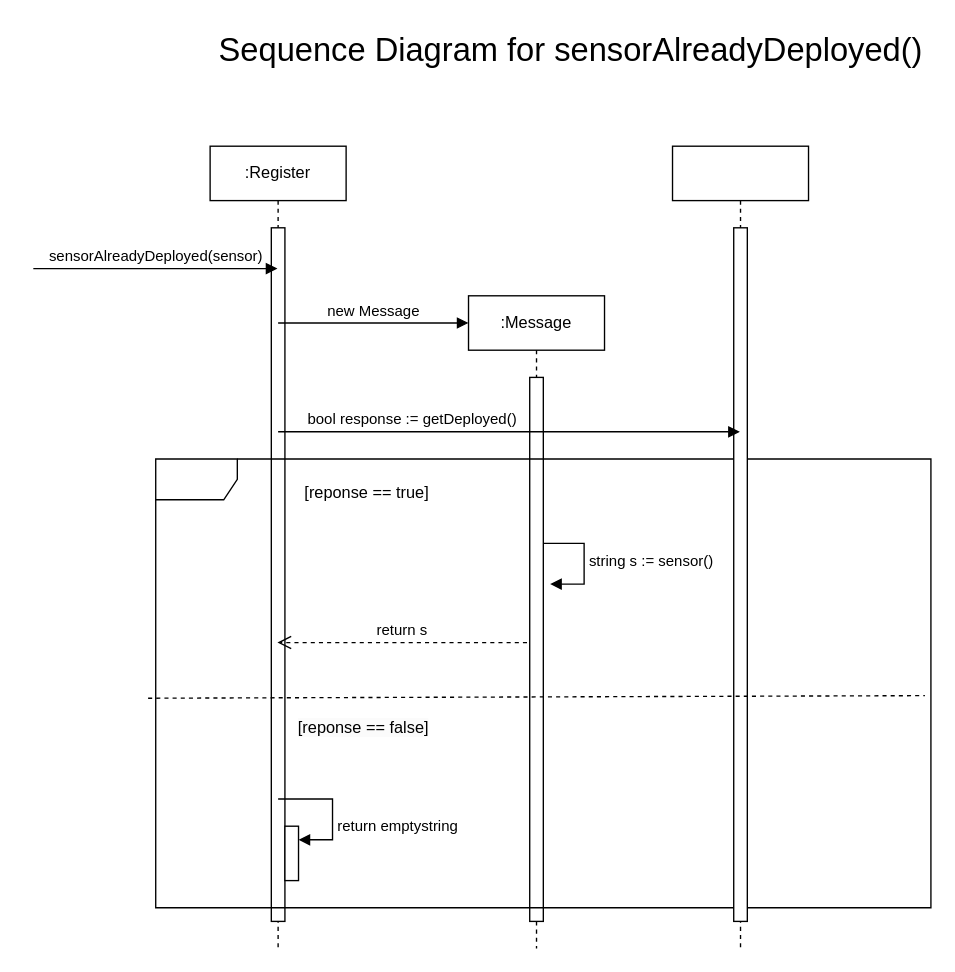
This 955x972 diagram has some shape labels left out. Each missing label, with the box of its shape:
:Sensor: (671, 145, 809, 949)
Alt: (154, 458, 931, 908)
